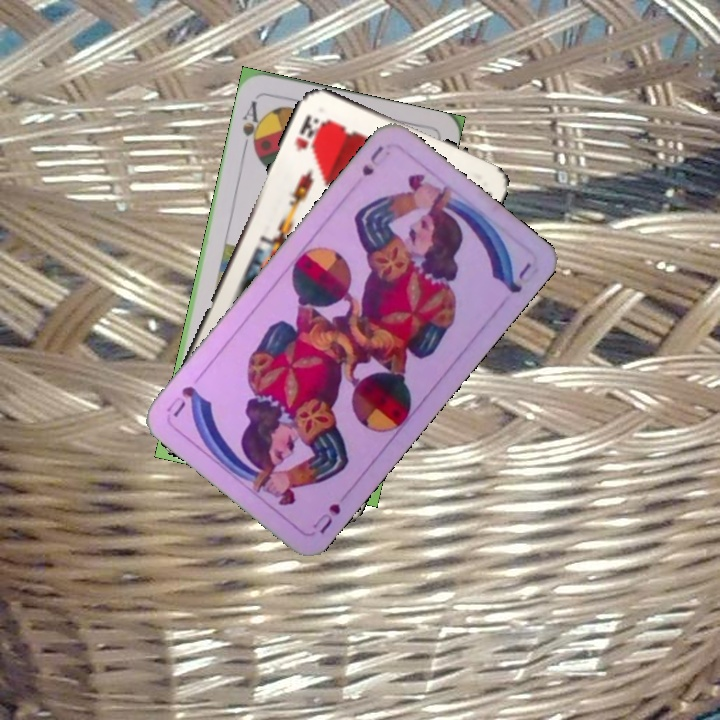HK: (291, 110, 326, 155)
SA: (238, 96, 266, 155)
SU: (355, 141, 394, 179), (308, 499, 344, 537)
